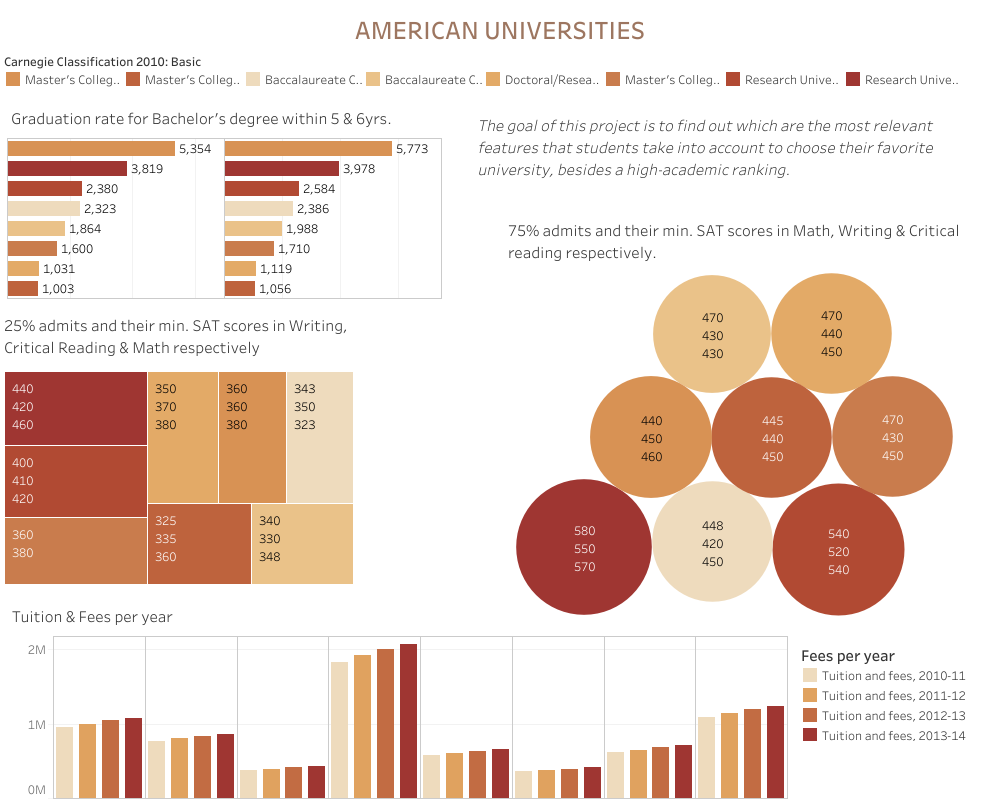

This screenshot's page, from the dashboard's own definition file:
{"tool":"tableau","page":{"name":"Dashboard 1","canvas":[1000,800],"ordinal":0},"visuals":[{"type":"title","box":[8,8,984,42]},{"type":"legend","title":"75% SAT","param":"[federated.19otrji0o5xdw41erhd5v1piz9ut].[none:Carnegie Classification 2010: Bas","box":[3,50,996,56]},{"type":"worksheet","title":"Graduation","mark":"Automatic","rows":[" Basic"],"cols":["Graduation rate - Bachelor degree within 5 years, total","Graduation rate - Bachelor degree within 6 years, total"],"box":[7,101,435,208]},{"type":"text","box":[475,103,478,88]},{"type":"worksheet","title":"75% SAT","mark":"Circle","box":[504,213,461,403]},{"type":"worksheet","title":"25% SAT","mark":"Automatic","box":[0,308,441,281]},{"type":"worksheet","title":"Tuition","mark":"Automatic","cols":[" Basic"],"box":[8,599,780,200]},{"type":"legend","title":"Tuition","param":"[federated.19otrji0o5xdw41erhd5v1piz9ut].[:Measure Names]","box":[800,642,189,99]}]}

Visuals, with their boxes in screenshot pixels (x1, y1, x2, y2), scaled from the page's 1000x800 canvas onto the 999x799 screenshot:
title: box=[8, 8, 991, 50]
"75% SAT" legend: box=[3, 50, 998, 106]
"Graduation" worksheet: box=[7, 101, 442, 309]
text: box=[475, 103, 952, 191]
"75% SAT" worksheet (Circle marks): box=[503, 213, 964, 615]
"25% SAT" worksheet: box=[0, 308, 441, 588]
"Tuition" worksheet: box=[8, 598, 787, 798]
"Tuition" legend: box=[799, 641, 988, 740]
